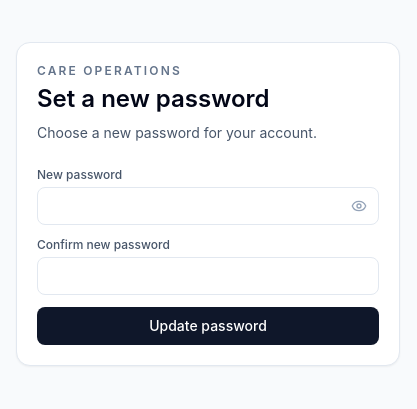
Test case: ResetPasswordPage › requires a password of at least 8 characters
In the password field labelled "New password": (208, 206) [37,187,379,225], type "short"
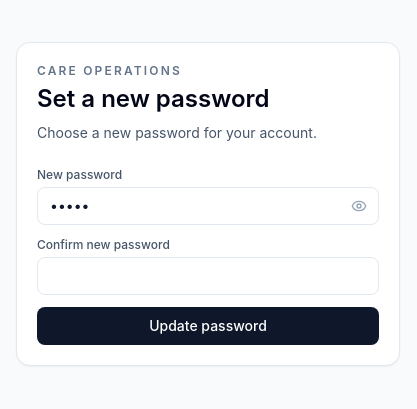
In the password field labelled "Confirm new password": (208, 276) [37,257,379,295], type "short"
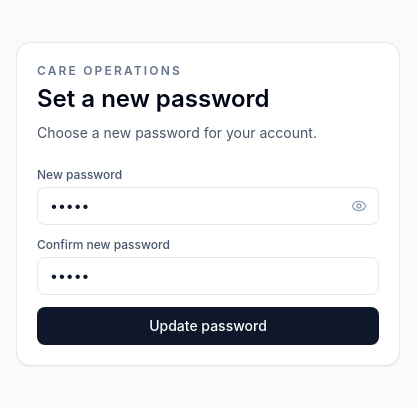
Click the button "Update password": (208, 326) [37,307,379,345]
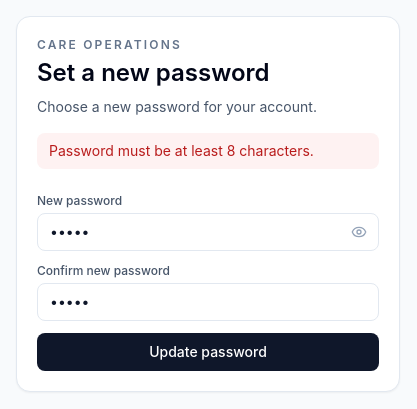
Expected: the text "Password must be at least 8 characters." is shown, [37,133,379,169]
